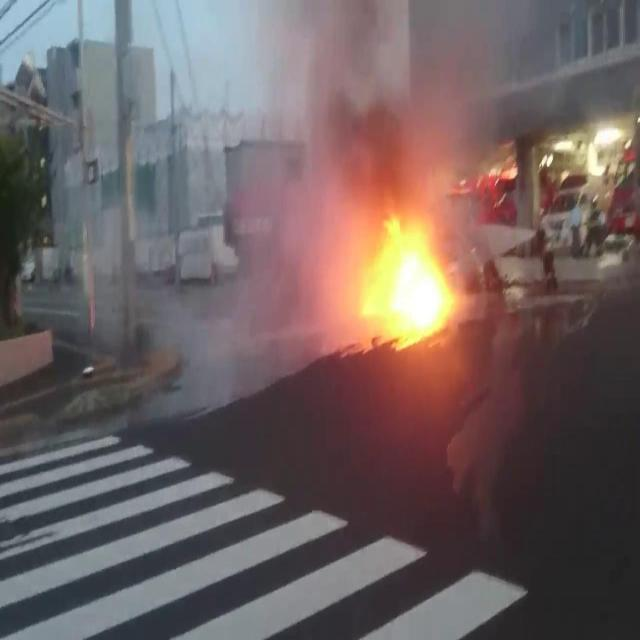Fire: (362, 218, 450, 306)
